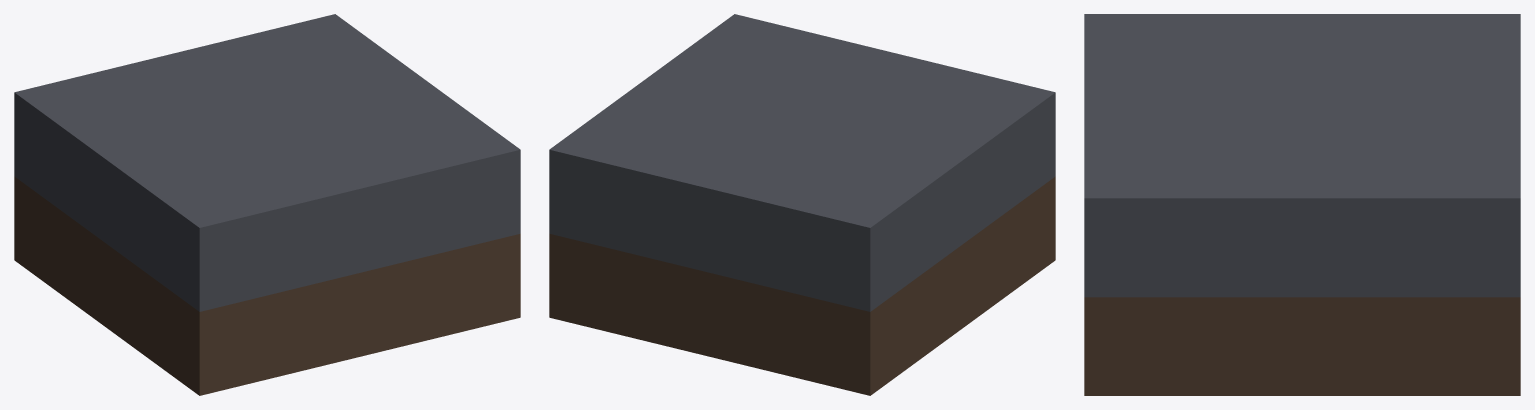
The model's file is runway.dae.
3 renders of one model, left to right at view 1: azimuth 30°, elevation 25°; view 2: azimuth 150°, elevation 25°; view 3: azimuth 270°, elevation 25°, orthographic. The views are drawn at different scales.
Visible parts, largest first — view 1: street.1; view 2: street.1; view 3: street.1.
Boxes of the visible parts, left/top/right/bottom form: street.1: left=14, top=14, right=520, bottom=395; street.1: left=549, top=14, right=1055, bottom=395; street.1: left=1084, top=14, right=1520, bottom=395.
Size of the model in its own units: 500 by 250 by 500.
